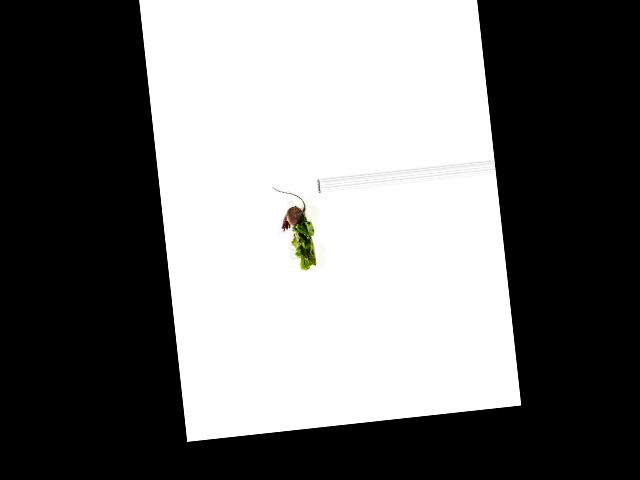beet: (272, 182, 308, 232)
